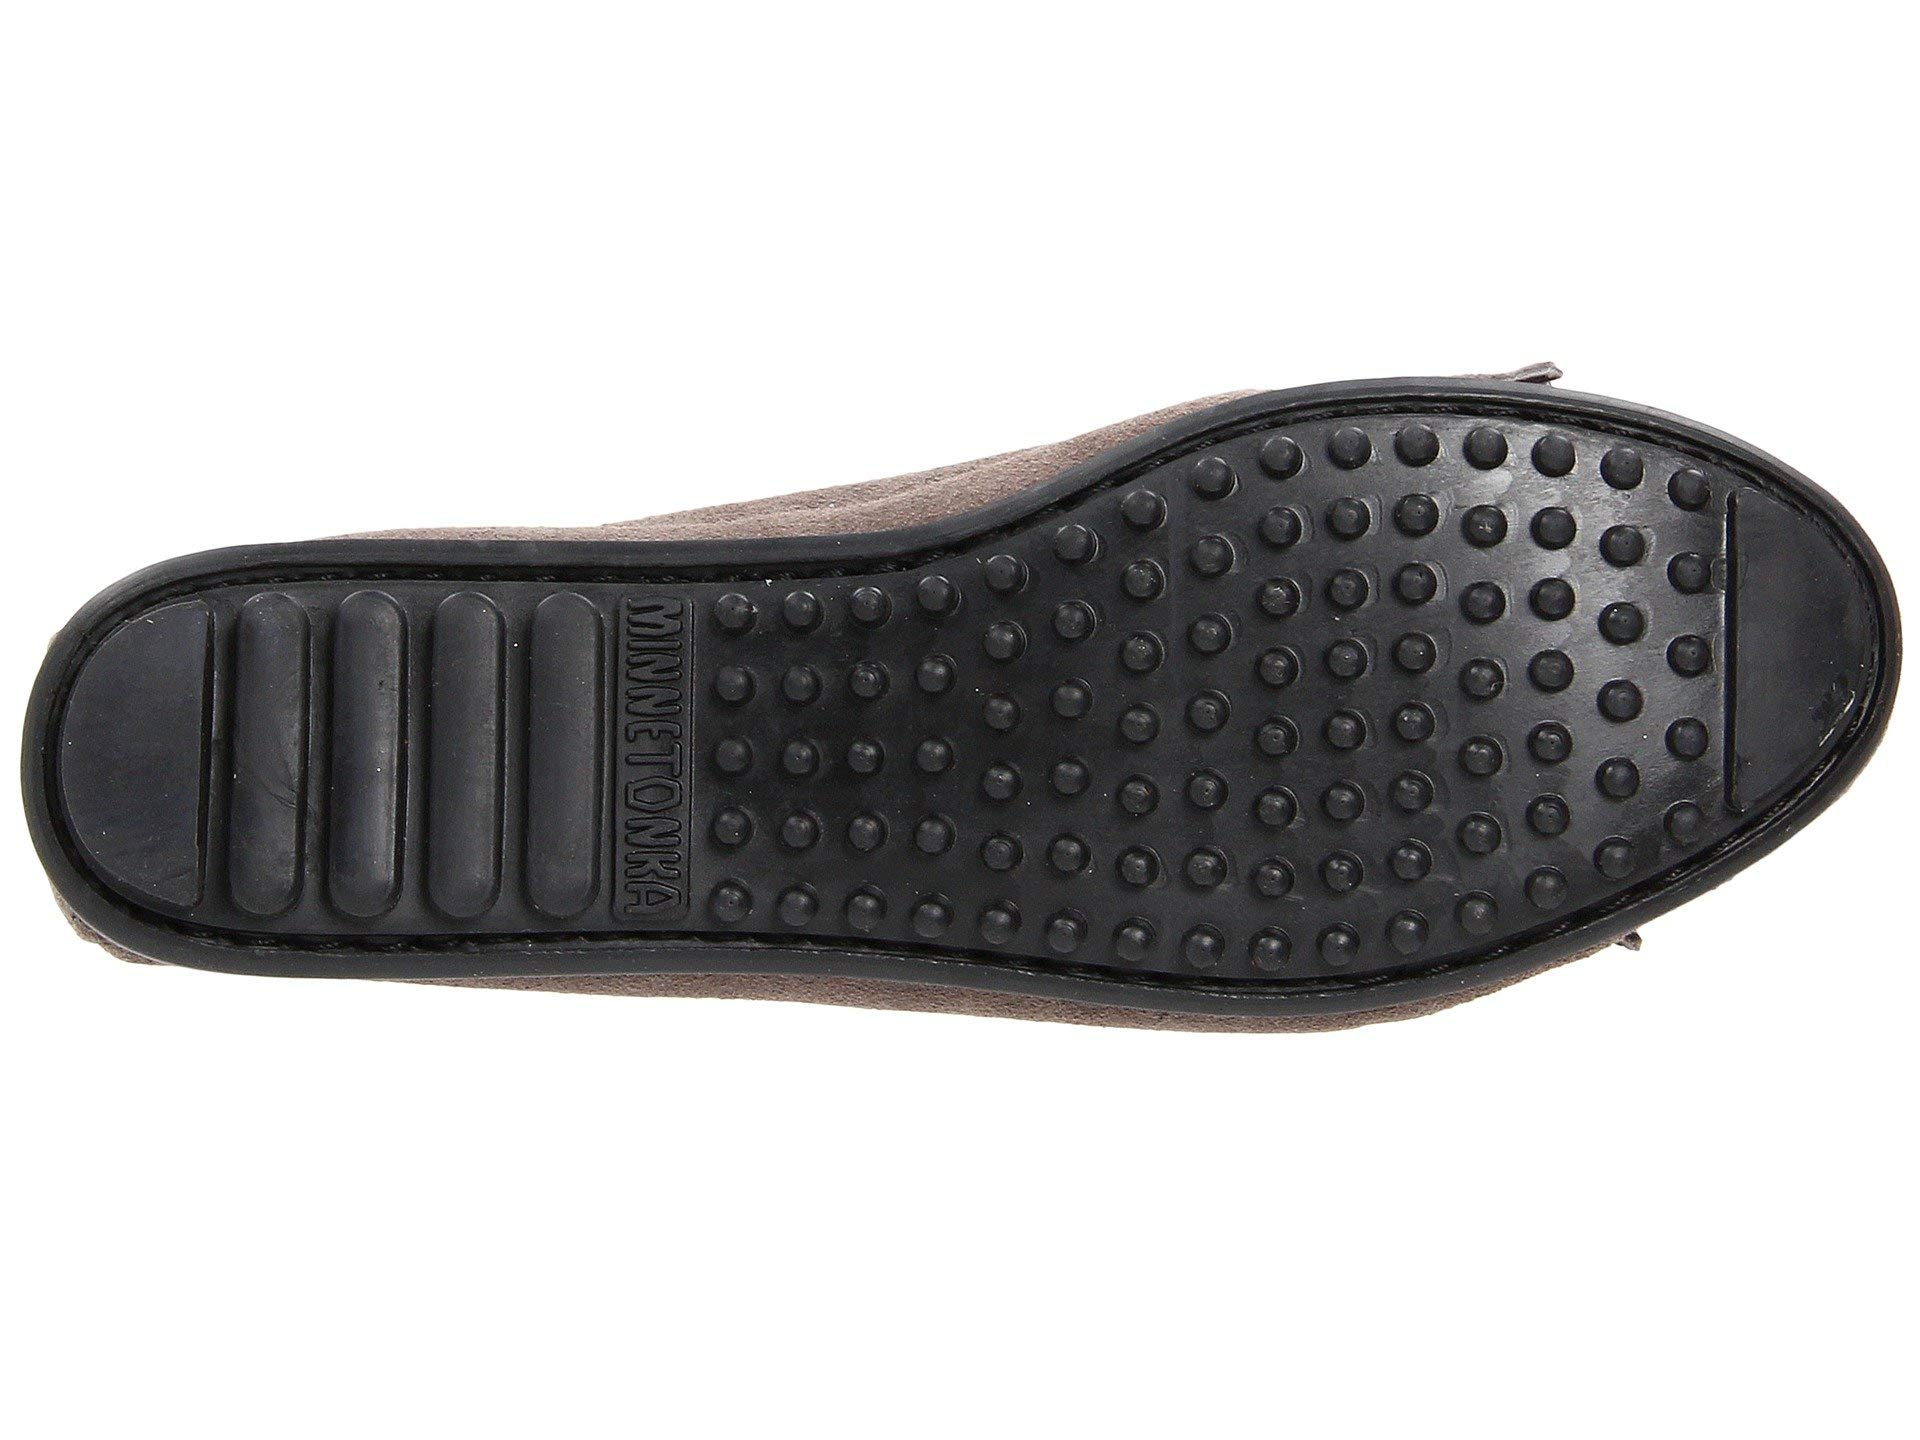circle: (1143, 458, 1657, 898), (602, 564, 706, 929)
line: (221, 563, 528, 968)
quad: (221, 563, 528, 968), (602, 564, 706, 929)
text: (602, 564, 706, 929)
